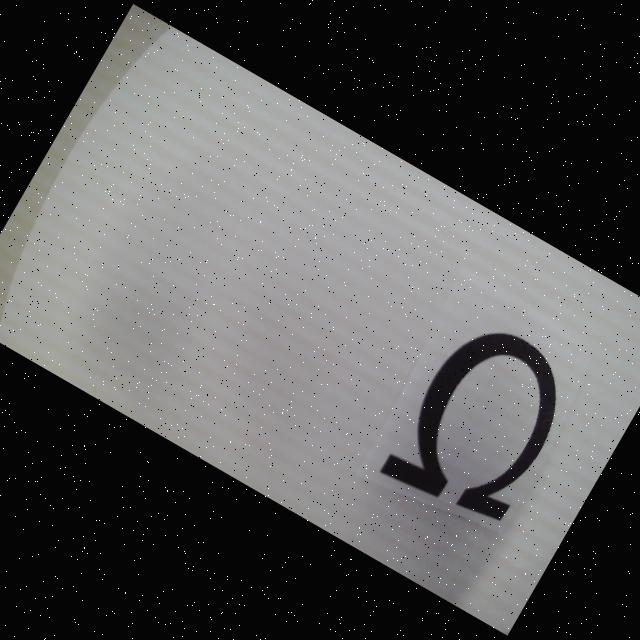OMEGA: (380, 311, 586, 538)
